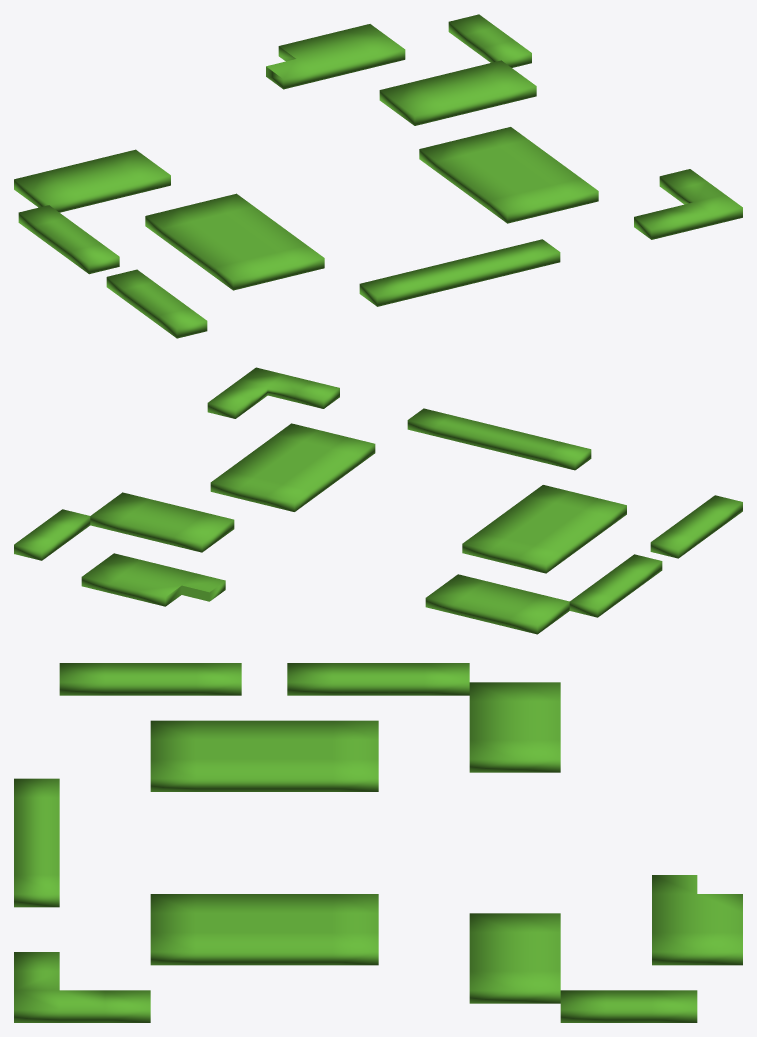
Rendered from Building_sites.obj.
3 views of the same model, one above another, from view 1: azimuth 30°, elevation 25°; view 2: azimuth 150°, elevation 25°; view 3: azimuth 270°, elevation 25° (orthographic). The views are drawn at different scales.
Visible parts, largest first — view 1: Board_combined_new_Plane.000; view 2: Board_combined_new_Plane.000; view 3: Board_combined_new_Plane.000.
Part boxes in pixels (box(x1,y1,x2,y2)): Board_combined_new_Plane.000: box(14, 14, 742, 338); Board_combined_new_Plane.000: box(14, 367, 742, 634); Board_combined_new_Plane.000: box(14, 663, 742, 1022).
Bounding box in the file's own units: 34.97 × 0.6256 × 31.09.
